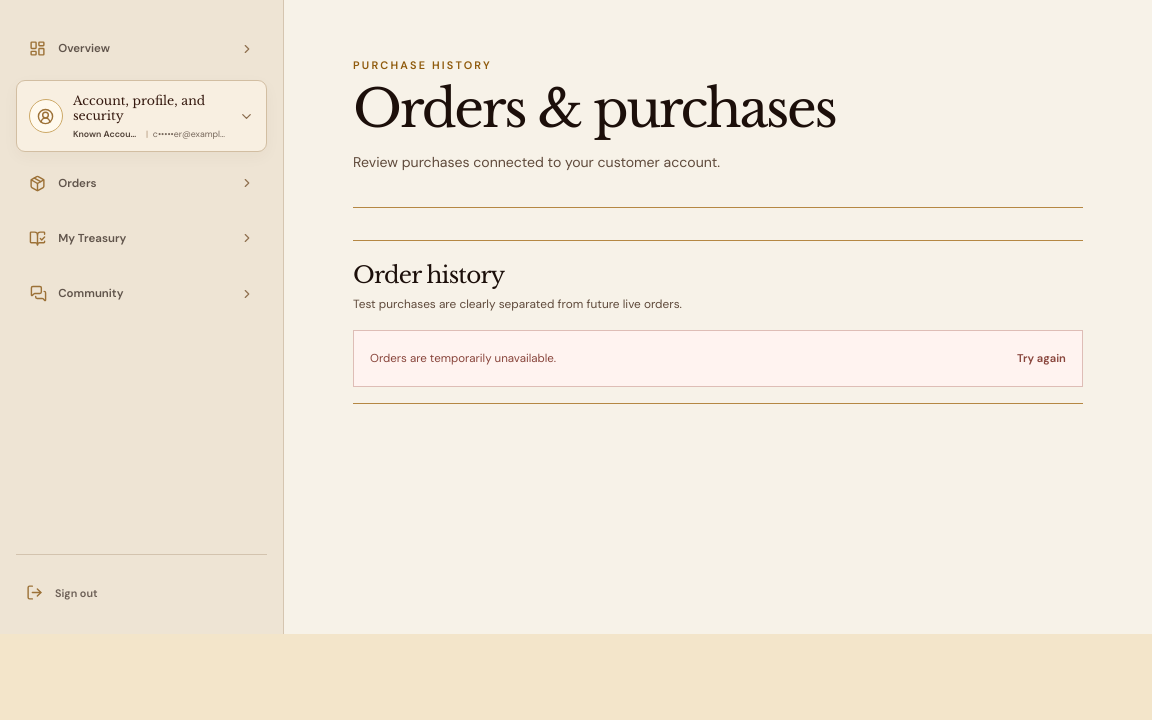
Scenario: backend read failures remain failures › does not describe a rejected order request as an empty purchase history
Expected: the message shows "Orders are temporarily unavailable.", [370,351,556,366]
Expected: the text "No orders yet" is not shown
Click the button "Try again".
click(1041, 358)  # box [1017,344,1066,373]
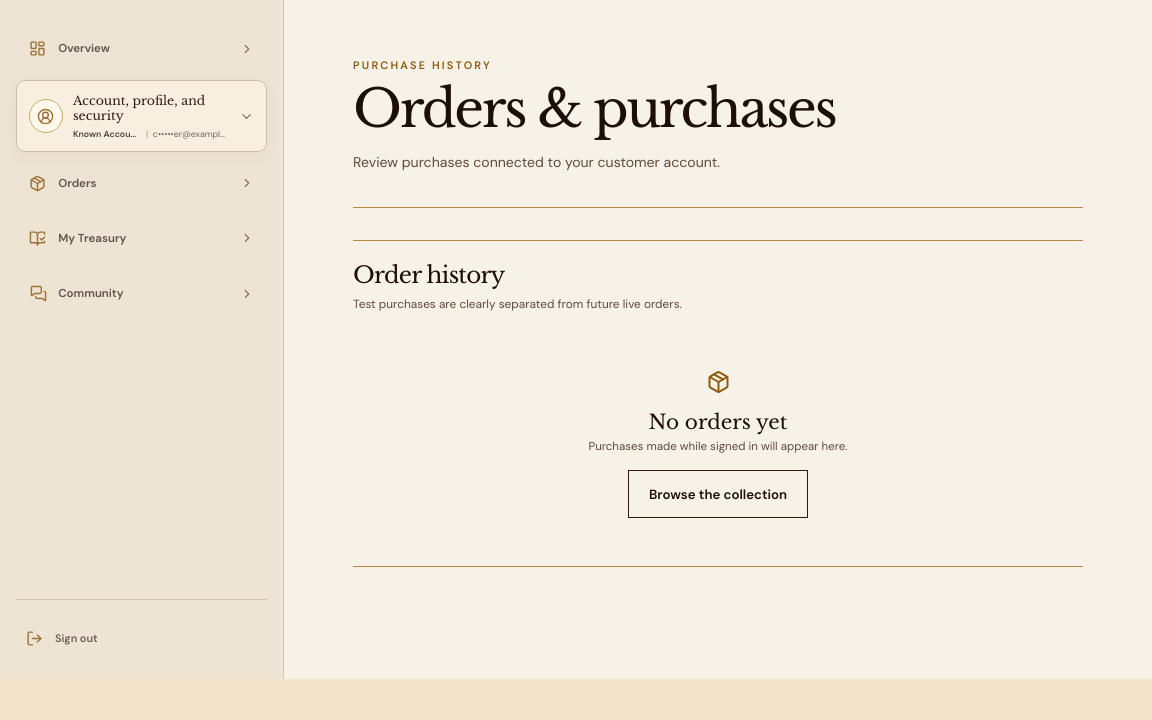
Result: the heading "No orders yet" is shown at [649,410,787,434]
